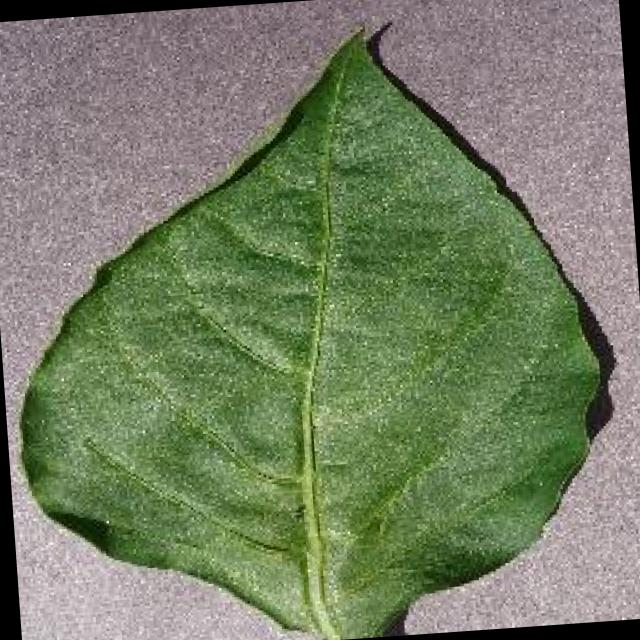Chilli_Healthy: (0, 3, 628, 640)
